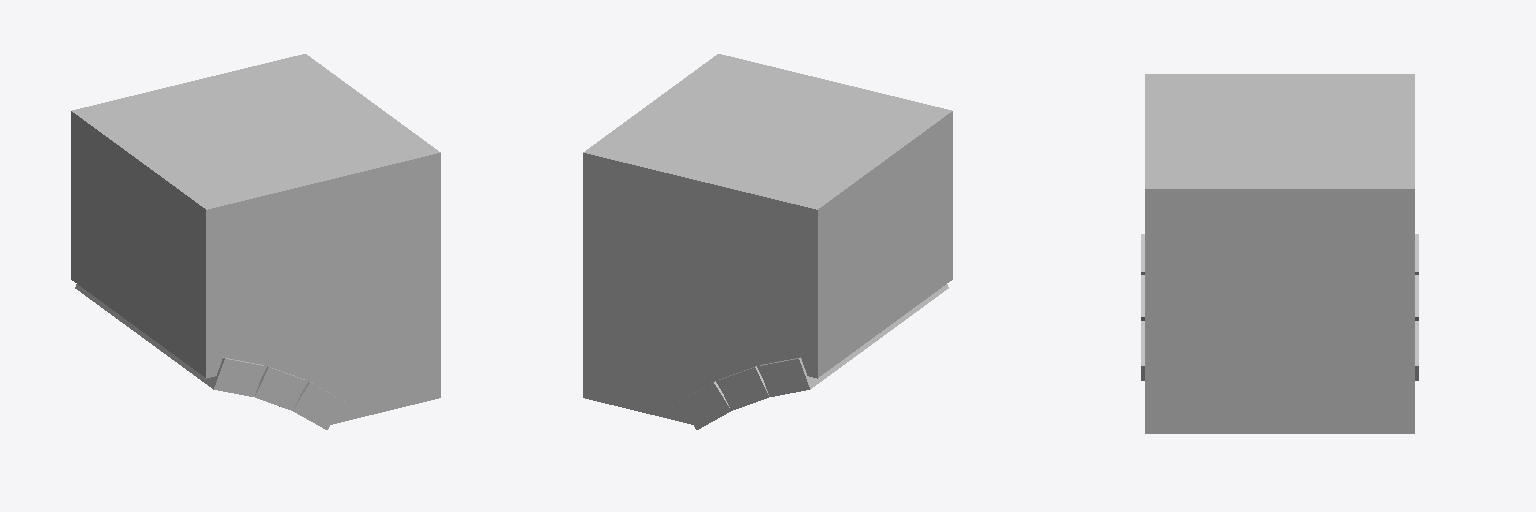
File: sandstone_triple_arch_top.obj
3 renders of one model, left to right at view 1: azimuth 30°, elevation 25°; view 2: azimuth 150°, elevation 25°; view 3: azimuth 270°, elevation 25°, orthographic.
Visible parts, largest first — view 1: cube; view 2: cube; view 3: cube.
Part boxes in pixels (left/top/right/bottom): cube: left=71, top=54, right=440, bottom=429; cube: left=583, top=54, right=952, bottom=429; cube: left=1141, top=74, right=1418, bottom=433.
Size of the model in its own units: 1 by 1.01 by 1.02.